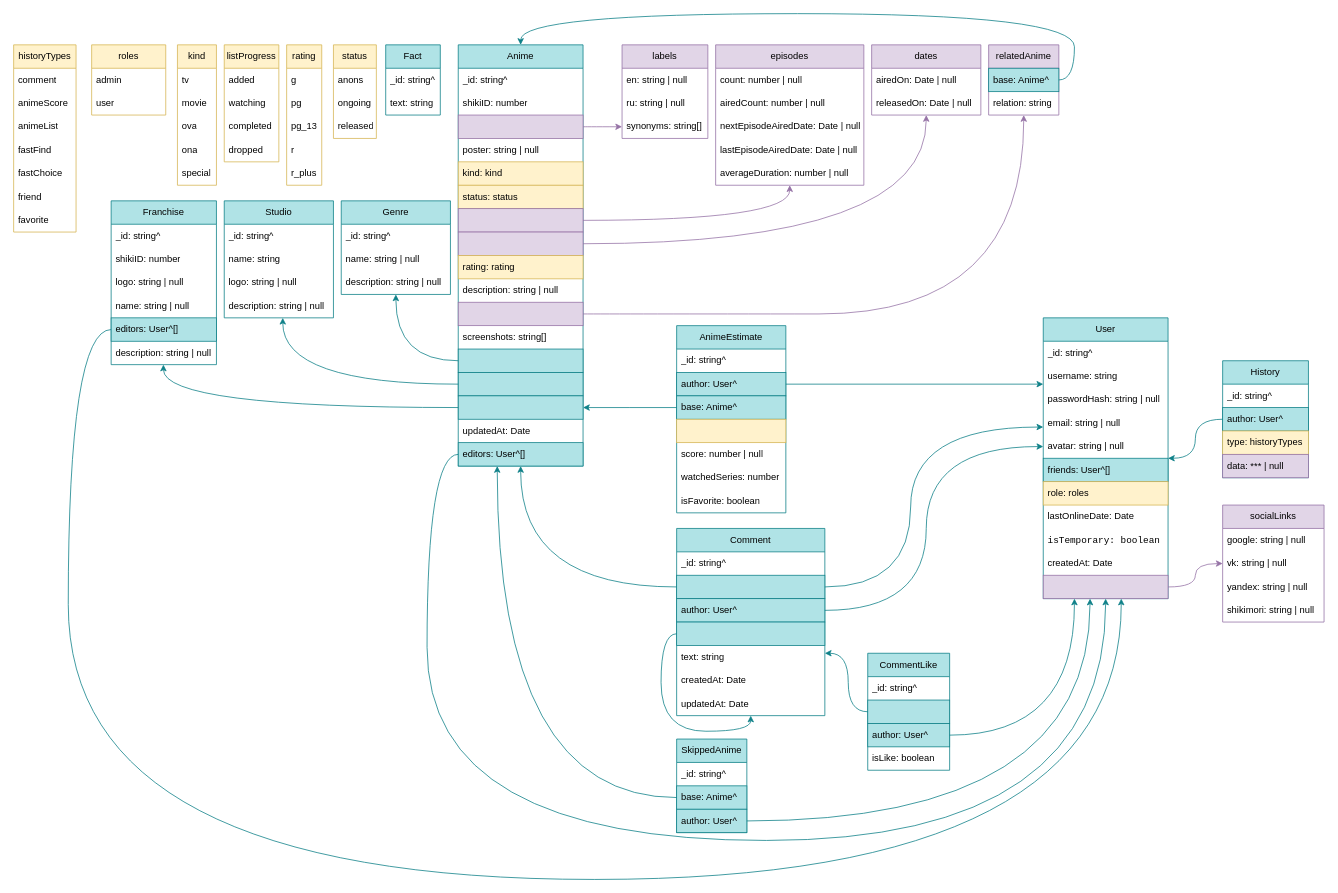
This 1338x893 diagram has some shape labels left out. The shapes that lost their labels are listed below. From the top down, each one's centre as x and y in pixels, then its label:
At [520,126]: "labels: labels".
At [520,220]: "episodes: episodes".
At [520,243]: "dates: dates".
At [520,313]: "related: relatedAnime[]".
At [520,360]: "genres: Genre^[]".
At [520,384]: "studios: Studio^[]".
At [520,407]: "franchise: Franchise^ | null".
At [731,430]: "listStatus: listProgress".
At [750,586]: "base: *** (Anime^, User^)".
At [1105,586]: "socialLinks: socialLinks".
At [750,633]: "parentComment: Comment^ | null".
At [908,711]: "base: Comment^".
